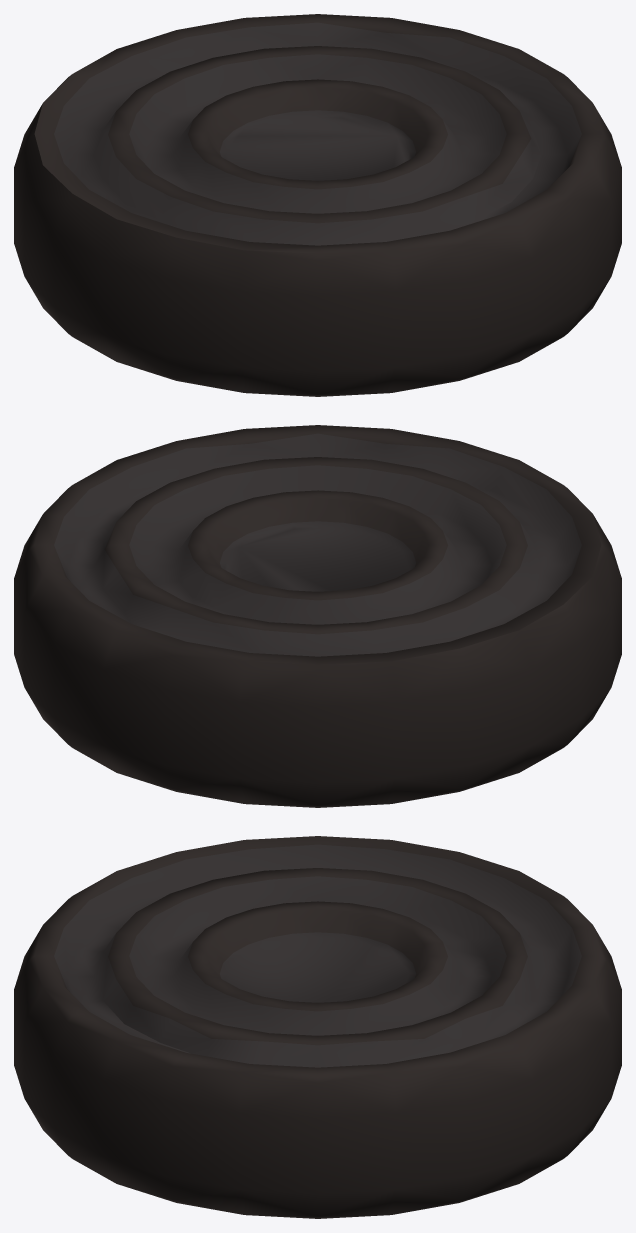
The model's file is damas_peca_preta_pacote.glb.
The picture shows the model from 3 angles, top to bottom: view 1: azimuth 30°, elevation 25°; view 2: azimuth 150°, elevation 25°; view 3: azimuth 270°, elevation 25°; orthographic projection.
Parts seen in each view (by area): view 1: damas_peca_preta_pacote; view 2: damas_peca_preta_pacote; view 3: damas_peca_preta_pacote.
Part boxes in pixels (x1,y1,x2,y2): damas_peca_preta_pacote: (14,14,621,396); damas_peca_preta_pacote: (14,425,621,807); damas_peca_preta_pacote: (14,836,621,1218).
Bounding box in the file's own units: 0.0388 × 0.0105 × 0.0388.
Materials: 1 (1 with a texture image).
